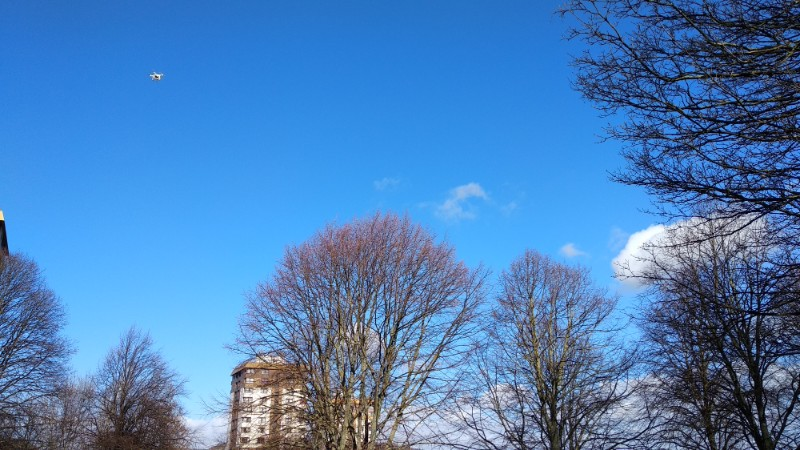drone: (149, 69, 166, 83)
